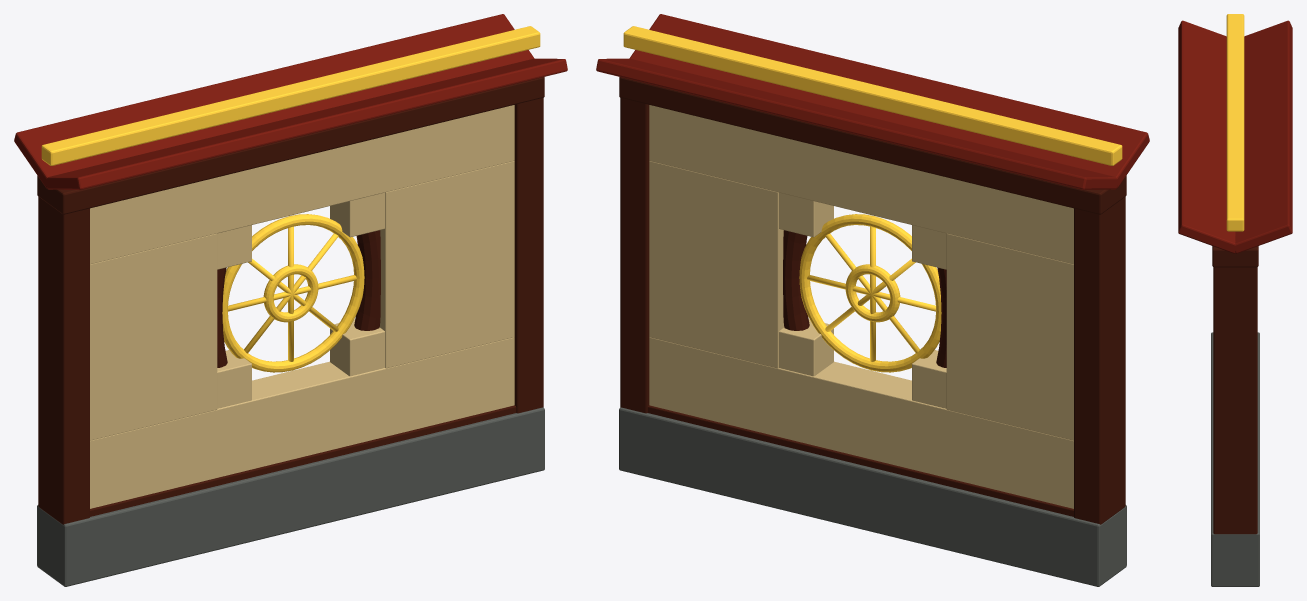
The model's file is tuong_chua_phap_luan.glb.
3 views of the same model, side by side, from view 1: azimuth 30°, elevation 25°; view 2: azimuth 150°, elevation 25°; view 3: azimuth 270°, elevation 25° (orthographic). The views are drawn at different scales.
Visible parts, largest first — view 1: WallPlinth, WallLow, WallTop, WallSide_1, WallSide_-1, Pilaster_-1, WallEave_1, WallRidge, WallEave_-1, TopWallBeam, Pilaster_1, Torus.001 (+8 smaller); view 2: WallPlinth, WallLow, WallTop, WallSide_1, WallSide_-1, Pilaster_-1, WallEave_-1, WallRidge, WallEave_1, TopWallBeam, Pilaster_1, Torus.001 (+8 smaller); view 3: Pilaster_1, WallEave_1, WallEave_-1, WallRidge, WallPlinth, TopWallBeam.
Part boxes in pixels (<box>): WallPlinth: <box>37,407,544,586</box>; WallLow: <box>90,337,514,508</box>; WallTop: <box>90,105,514,264</box>; WallSide_1: <box>379,161,514,368</box>; WallSide_-1: <box>90,233,217,440</box>; Pilaster_-1: <box>38,197,89,524</box>; WallEave_1: <box>14,14,534,188</box>; WallRidge: <box>41,26,540,165</box>; WallEave_-1: <box>46,58,567,189</box>; TopWallBeam: <box>37,77,544,214</box>; Pilaster_1: <box>514,98,543,413</box>; Torus.001: <box>222,214,364,372</box>; WallPlinth: <box>619,407,1126,586</box>; WallLow: <box>649,337,1073,508</box>; WallTop: <box>649,105,1073,264</box>; WallSide_1: <box>649,161,784,368</box>; WallSide_-1: <box>946,233,1073,440</box>; Pilaster_-1: <box>1074,197,1125,524</box>; WallEave_-1: <box>629,14,1149,188</box>; WallRidge: <box>623,26,1122,165</box>; WallEave_1: <box>596,58,1118,189</box>; TopWallBeam: <box>619,77,1126,214</box>; Pilaster_1: <box>620,98,649,413</box>; Torus.001: <box>799,214,941,372</box>; Pilaster_1: <box>1213,267,1257,534</box>; WallEave_1: <box>1234,20,1292,253</box>; WallEave_-1: <box>1178,20,1236,253</box>; WallRidge: <box>1226,14,1244,231</box>; WallPlinth: <box>1211,332,1259,586</box>; TopWallBeam: <box>1212,246,1258,267</box>.
Bounding box in the file's own units: 6.14 × 5.15 × 1.44.
